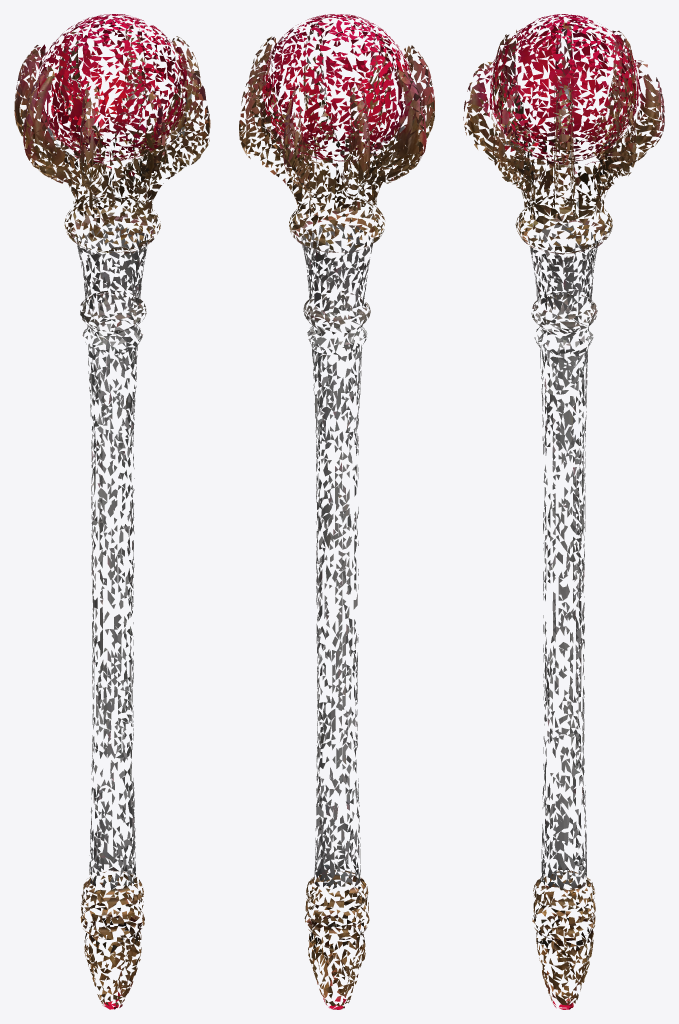
The model's file is b_staff.glb.
The picture shows the model from 3 angles, left to right: view 1: azimuth 30°, elevation 25°; view 2: azimuth 150°, elevation 25°; view 3: azimuth 270°, elevation 25°; orthographic projection.
Parts seen in each view (by area): view 1: shape_clean_textured; view 2: shape_clean_textured; view 3: shape_clean_textured.
Part boxes in pixels (x1,y1,x2,y2): shape_clean_textured: (14,14,210,1009); shape_clean_textured: (239,14,434,1009); shape_clean_textured: (463,14,664,1009).
Size of the model in its own units: 0.3725 by 1.99 by 0.3683.
Materials: 1 (1 with a texture image).
